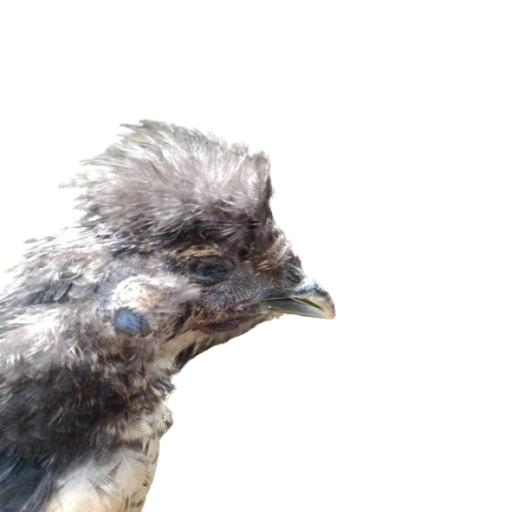disease: (75, 250, 225, 422), (201, 202, 302, 292)
